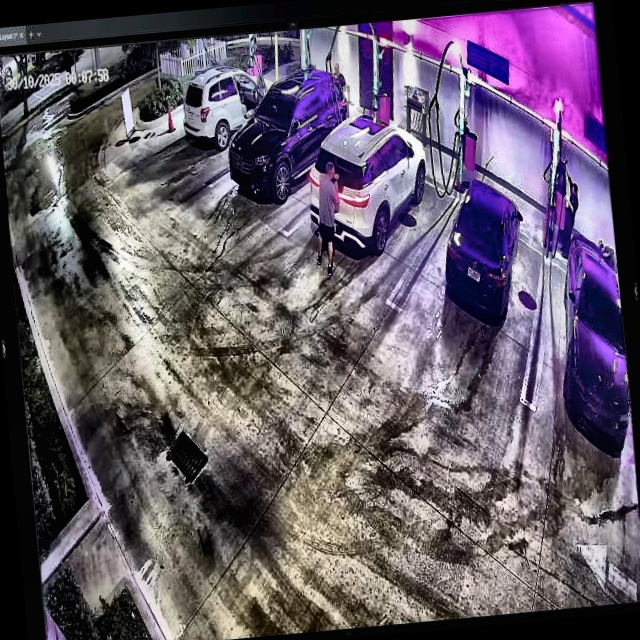Car: (303, 109, 435, 267), (222, 65, 355, 201), (438, 177, 528, 325), (180, 62, 280, 149)
